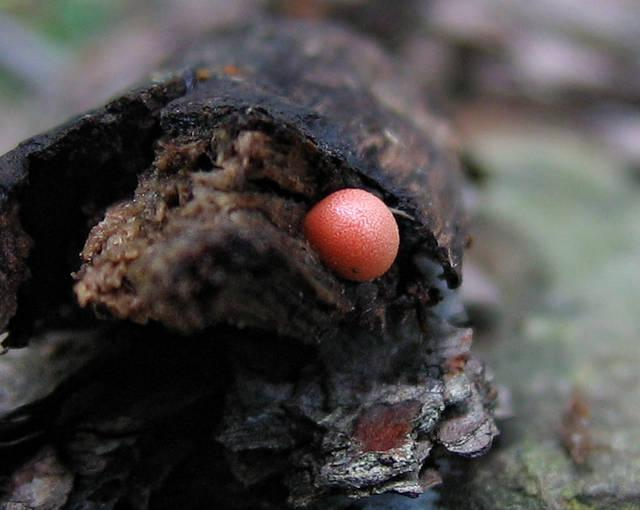Non-edible Mushroom: (301, 186, 401, 283)
